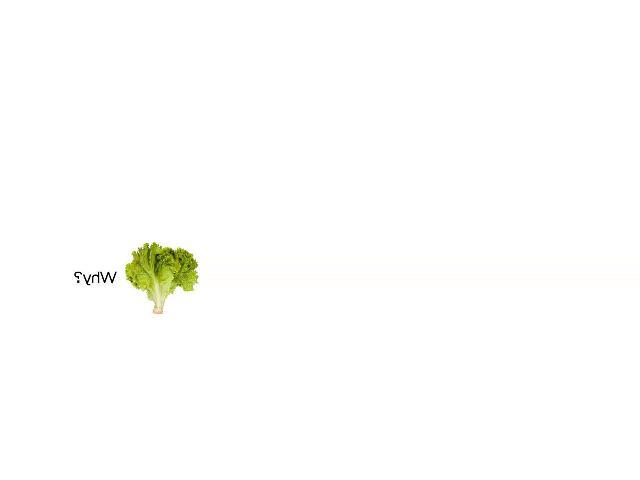lettuce: (118, 242, 200, 315)
